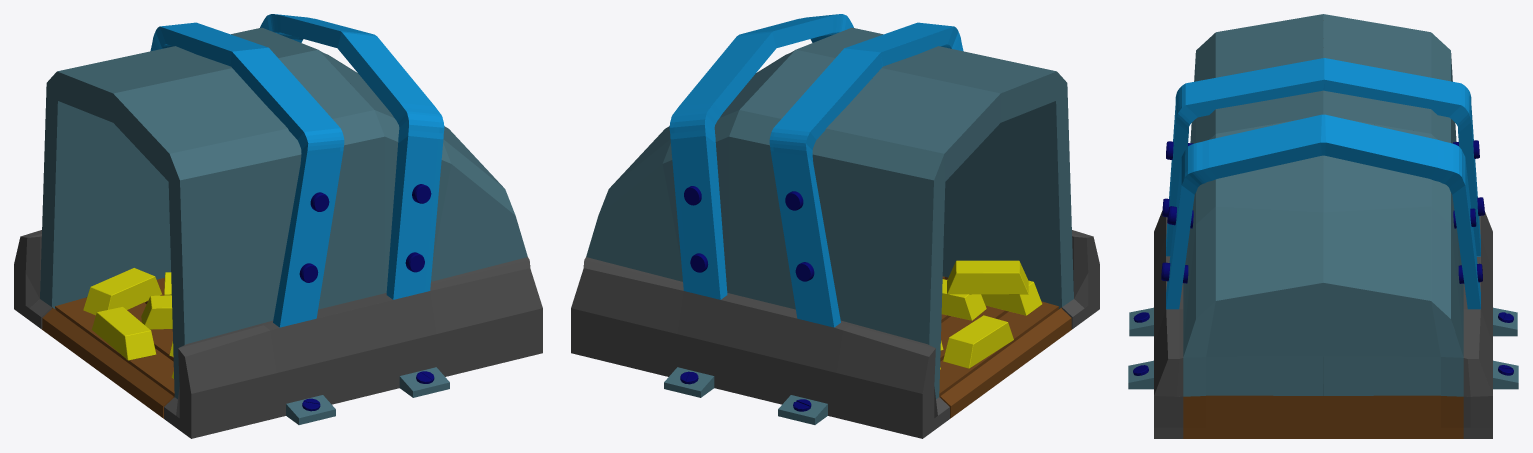
The model's file is gold_mine.fbx.
3 views of the same model, side by side, from view 1: azimuth 30°, elevation 25°; view 2: azimuth 150°, elevation 25°; view 3: azimuth 270°, elevation 25° (orthographic). The views are drawn at different scales.
Parts seen in each view (by area): view 1: Cube, Cube.012; view 2: Cube, Cube.012; view 3: Cube.
Part boxes in pixels (x1,y1,x2,y2): Cube: (14, 14, 542, 438); Cube.012: (83, 268, 173, 378); Cube: (571, 14, 1099, 438); Cube.012: (940, 260, 1042, 369); Cube: (1128, 14, 1518, 438).
Size of the model in its own units: 100 by 80 by 100.
